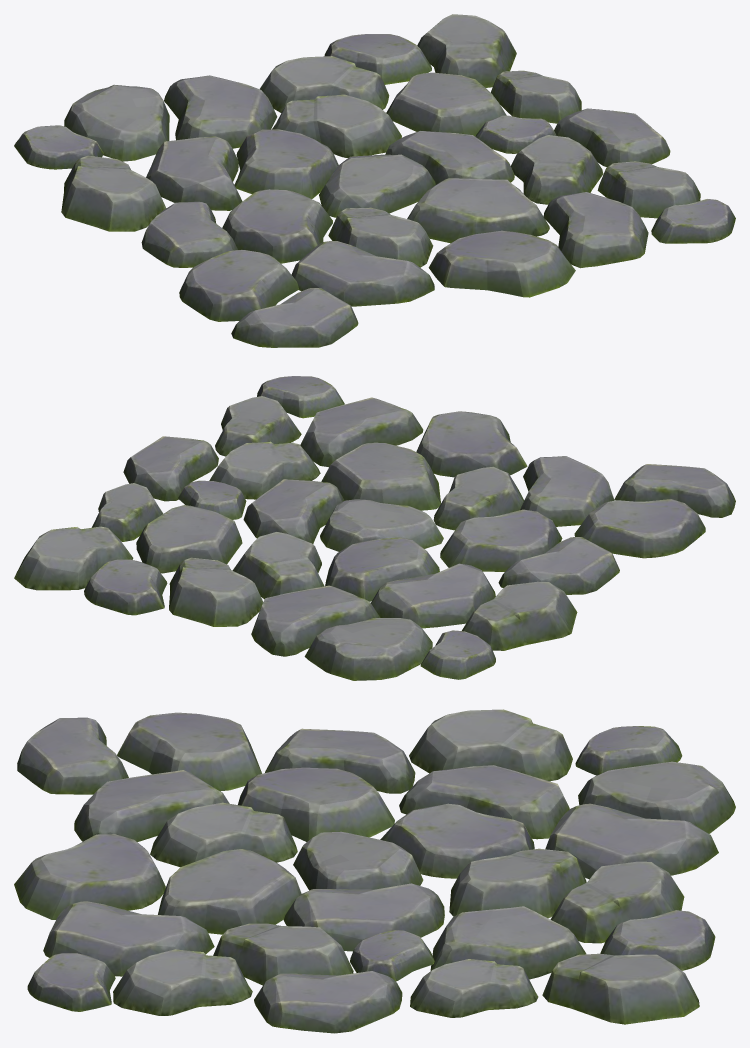
Rendered from RockPath_Round_Wide.glb.
3 renders of one model, top to bottom at view 1: azimuth 30°, elevation 25°; view 2: azimuth 150°, elevation 25°; view 3: azimuth 270°, elevation 25°, orthographic. The views are drawn at different scales.
Parts seen in each view (by area): view 1: RockPath_Round_Wide; view 2: RockPath_Round_Wide; view 3: RockPath_Round_Wide.
Boxes of the visible parts, box(x1,y1,x2,y2) form: RockPath_Round_Wide: box(14, 14, 735, 347); RockPath_Round_Wide: box(14, 376, 735, 680); RockPath_Round_Wide: box(14, 709, 735, 1033).
Bounding box in the file's own units: 2.11 × 0.1128 × 2.13.
Materials: 1 (1 with a texture image).
